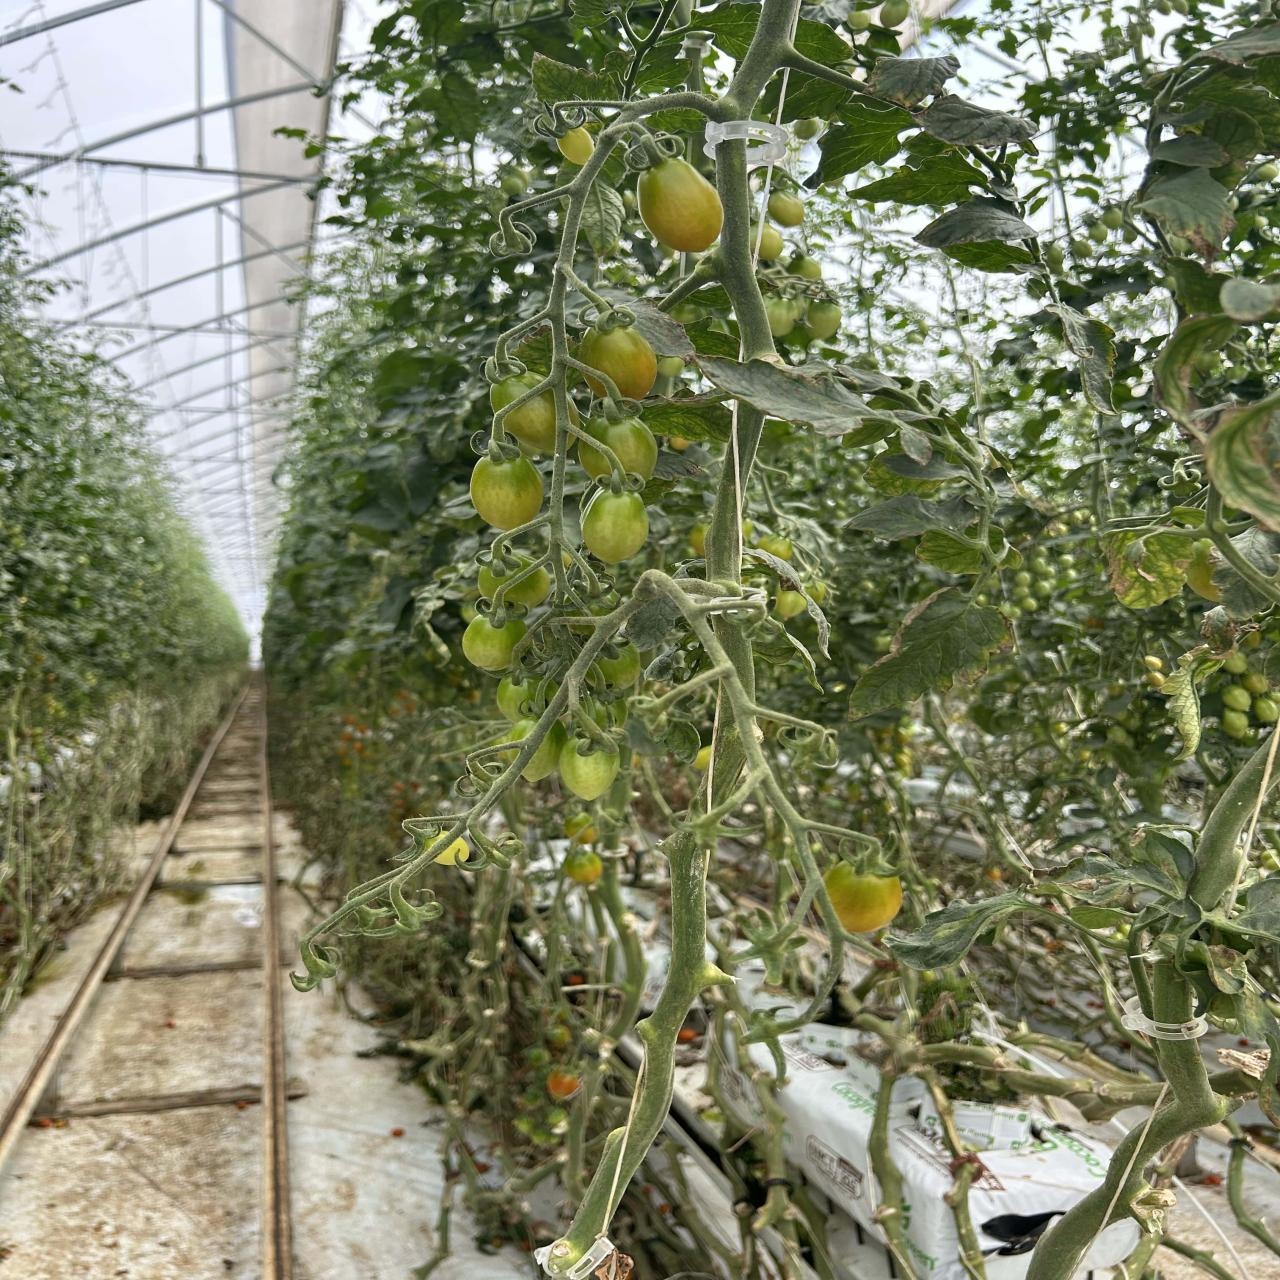Hoja: (699, 356, 879, 436), (915, 196, 1039, 272), (851, 150, 986, 207), (819, 104, 912, 184), (843, 493, 980, 539)
Hoja rugoso: (850, 587, 1007, 717), (1138, 169, 1233, 250)
Pedunculo: (561, 570, 869, 998), (540, 95, 686, 580), (471, 601, 639, 819), (619, 829, 720, 1190), (716, 138, 775, 359), (704, 0, 799, 123), (706, 401, 764, 583), (692, 693, 747, 818), (713, 619, 755, 701)
Tomate: (639, 158, 722, 252), (823, 860, 903, 933), (579, 326, 656, 400), (470, 456, 544, 530), (581, 489, 648, 565), (584, 418, 658, 479), (559, 737, 619, 801), (462, 615, 525, 670), (504, 390, 554, 456), (478, 567, 551, 607), (490, 372, 545, 417), (558, 128, 594, 165), (563, 852, 602, 885), (580, 442, 607, 478)
